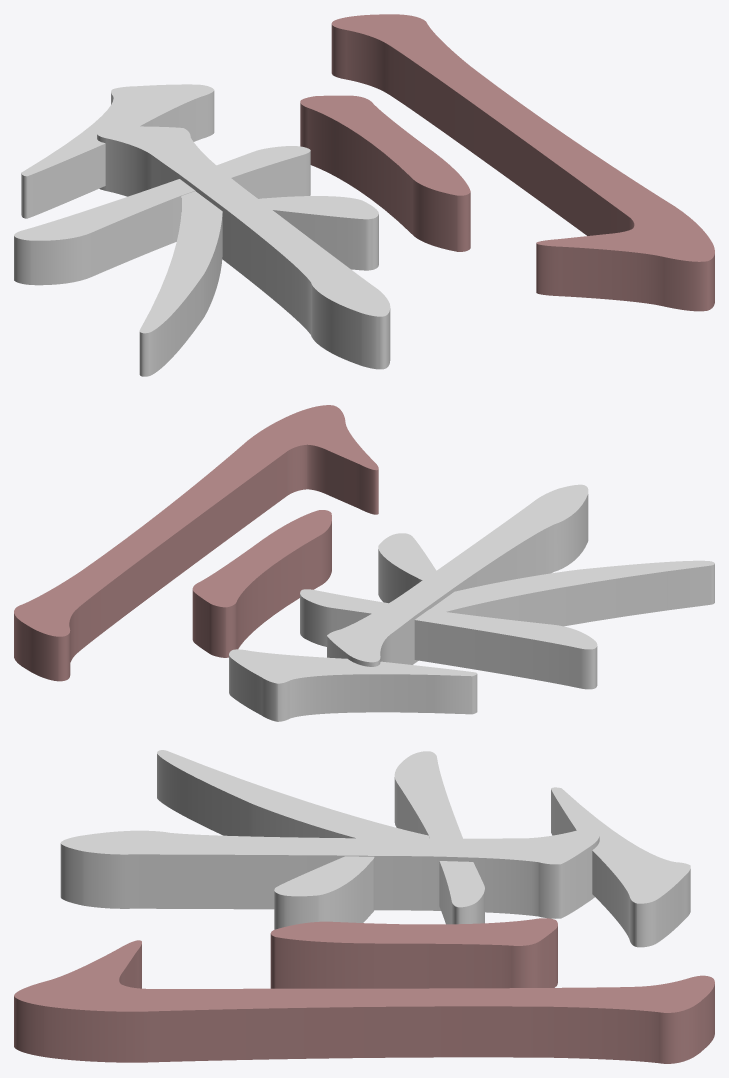
File: hanzi56.fbx
3 renders of one model, top to bottom at view 1: azimuth 30°, elevation 25°; view 2: azimuth 150°, elevation 25°; view 3: azimuth 270°, elevation 25°, orthographic. The views are drawn at different scales.
Parts seen in each view (by area): view 1: Curve.006, Curve.002, Curve.005, Curve.001, Curve, Curve.003, Curve.004; view 2: Curve.006, Curve.002, Curve, Curve.001, Curve.003, Curve.005, Curve.004; view 3: Curve.006, Curve.002, Curve.005, Curve.003, Curve, Curve.001, Curve.004.
Boxes of the visible parts, x1,y1,x2,y2 form: Curve.006: (331,14,714,311); Curve.002: (97,126,390,369); Curve.005: (300,95,470,251); Curve.001: (14,146,310,285); Curve: (21,84,214,218); Curve.003: (139,191,222,376); Curve.004: (259,196,378,270); Curve.006: (14,405,378,681); Curve.002: (327,484,588,666); Curve: (229,649,477,721); Curve.001: (300,589,597,689); Curve.003: (430,560,714,626); Curve.005: (192,510,331,657); Curve.004: (378,533,436,603); Curve.006: (14,940,714,1063); Curve.002: (60,828,599,918); Curve.005: (270,918,557,988); Curve.003: (157,750,429,838); Curve: (551,787,690,947); Curve.001: (394,751,484,924); Curve.004: (274,856,374,929).
Bounding box in the file's own units: 21.5 × 23.95 × 2.18.
